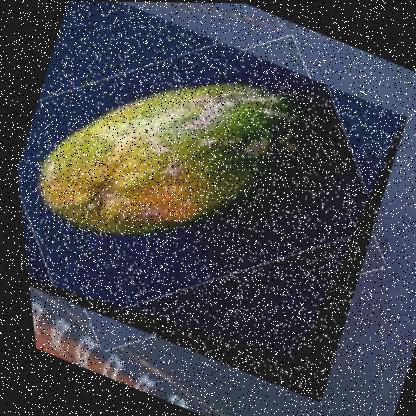orange_rotten: (0, 0, 415, 405)
